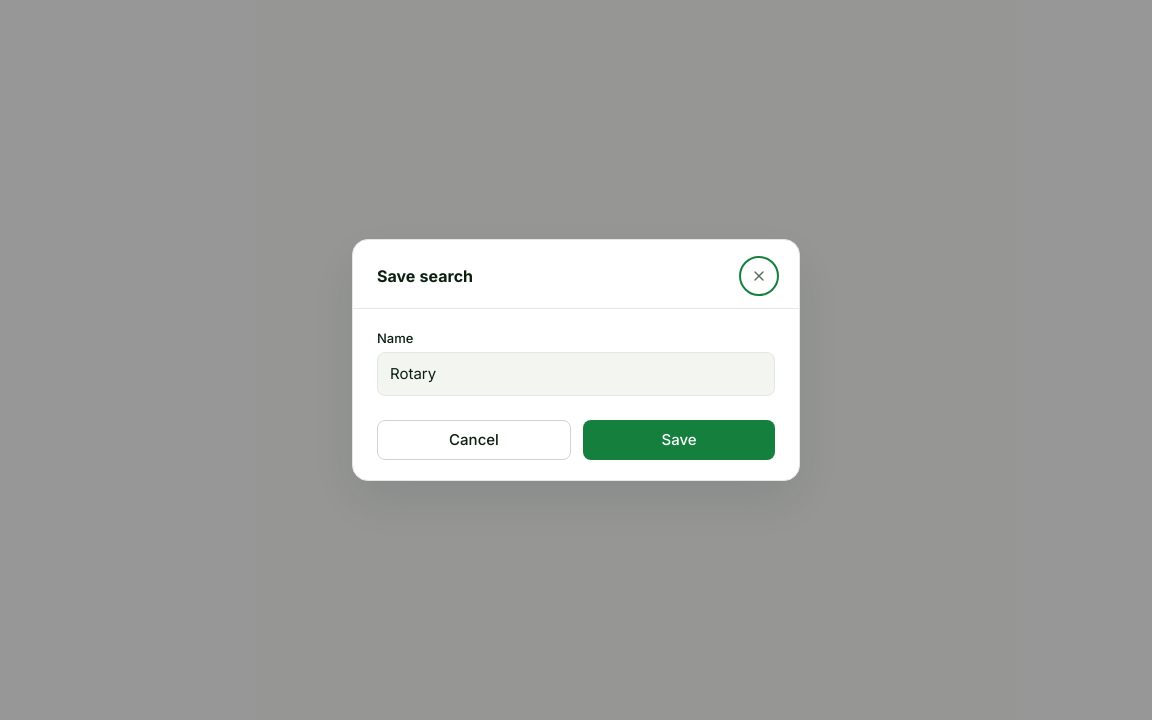
Scenario: Save search modal (SRCH-13) › shows inline role="alert" div on persistence error (NOT StatusBanner)
Click the button "Save".
click(679, 440)  # box [583,420,775,460]
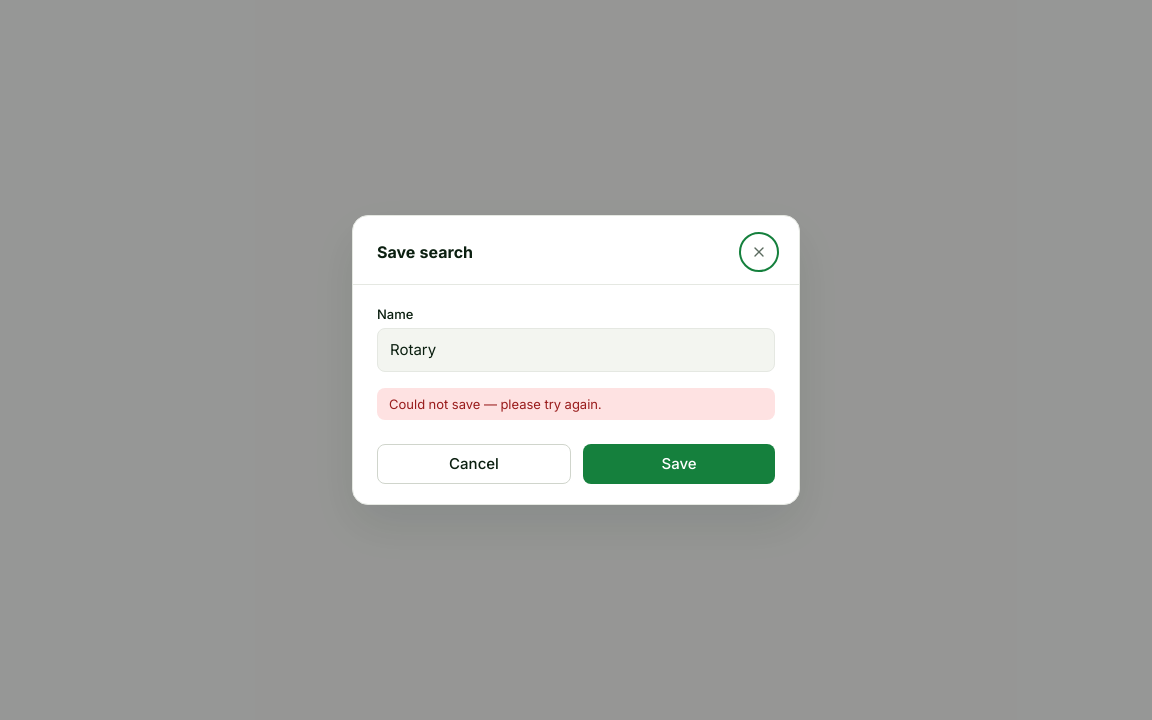
expect the message "Could not save — please try again." is shown: met, box [377,388,775,420]
expect the message shows "Could not save": met, box [389,396,602,412]
